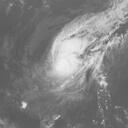cyclone: (45, 30, 88, 81)
